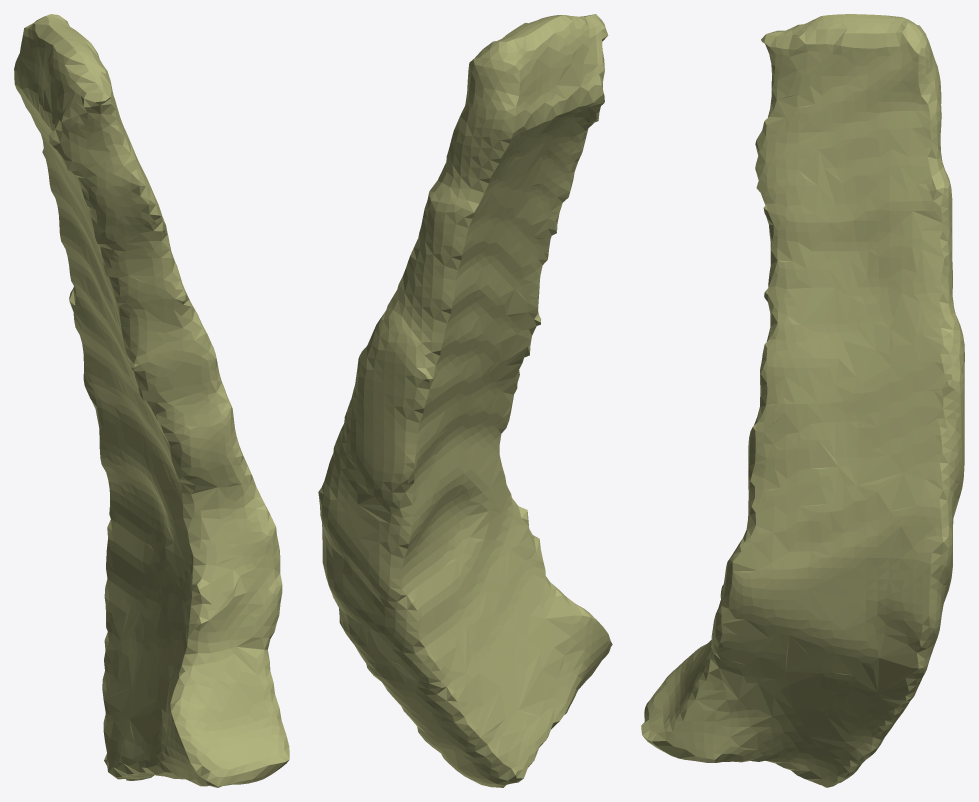
Rendered from Model_68_RH__Area_35_of_cortex_(A35).obj.
The picture shows the model from 3 angles, left to right: view 1: azimuth 30°, elevation 25°; view 2: azimuth 150°, elevation 25°; view 3: azimuth 270°, elevation 25°; orthographic projection. The views are drawn at different scales.
Size of the model in its own units: 2.06 by 7.06 by 2.81.
